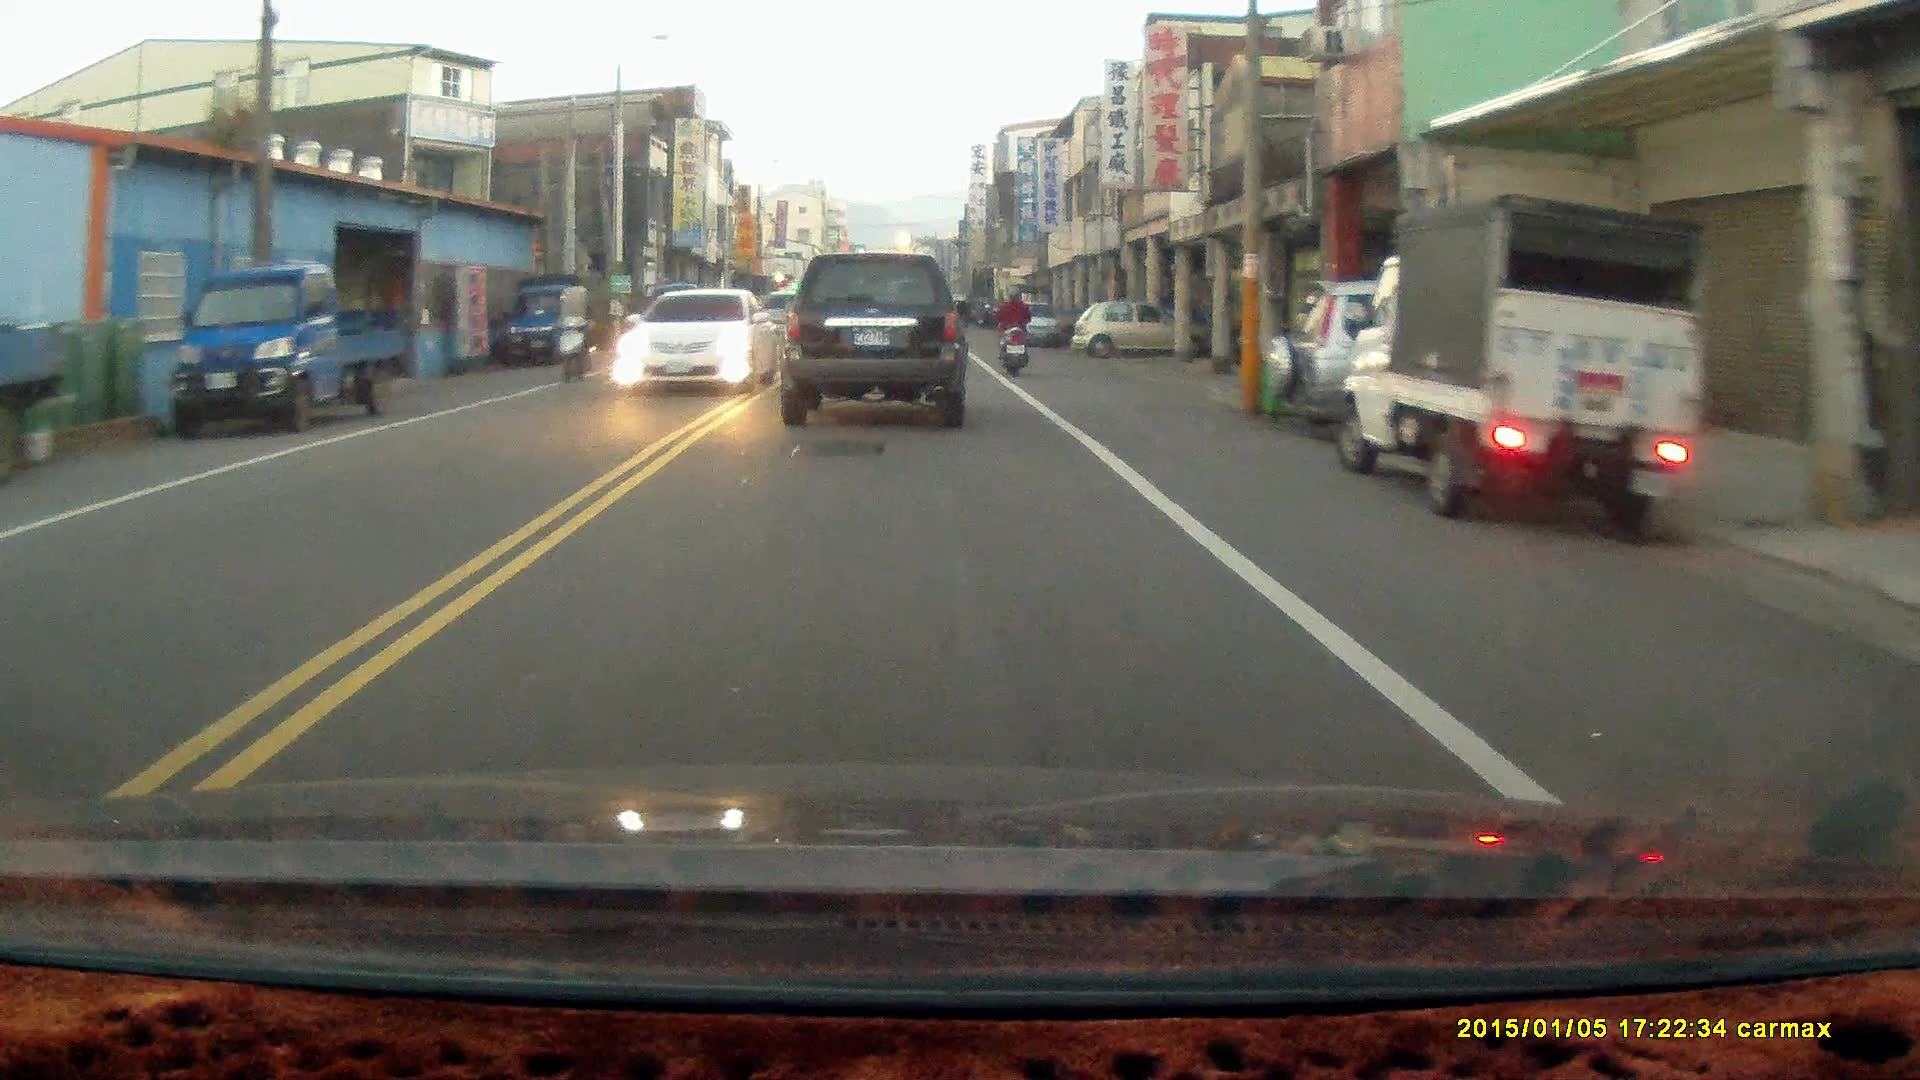rider: (548, 282, 597, 384), (994, 279, 1031, 375)
vehicle: (1344, 188, 1703, 550), (1263, 277, 1638, 435), (170, 270, 412, 436), (777, 252, 973, 429), (615, 288, 783, 396), (496, 273, 616, 369), (1074, 300, 1173, 357)
